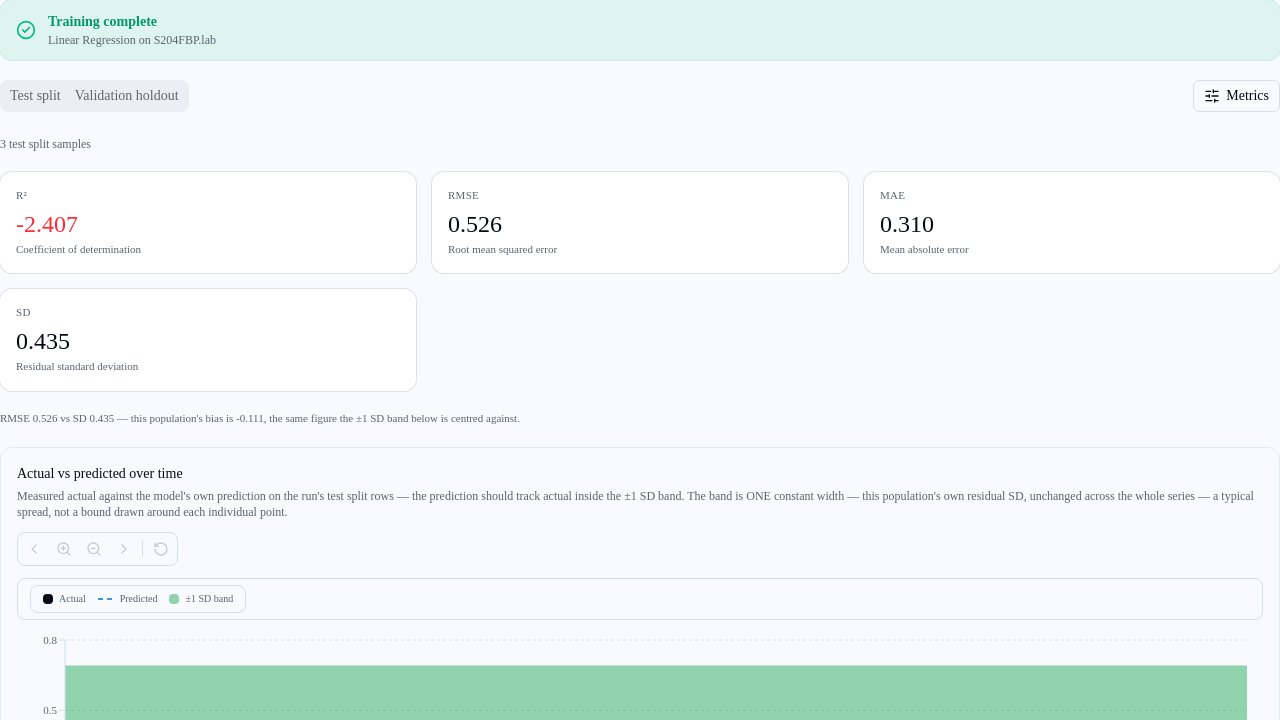
Test: Phase5Evaluation — tabs for every run (MODEL-FLOW-030) › the holdout tab › never scored: says so and offers Score against holdout
What coordinates should you click on to do the following:
click the tab "Validation holdout"
I would click on:
 (127, 96)
Its box is top-left (68, 83), bottom-right (186, 109).
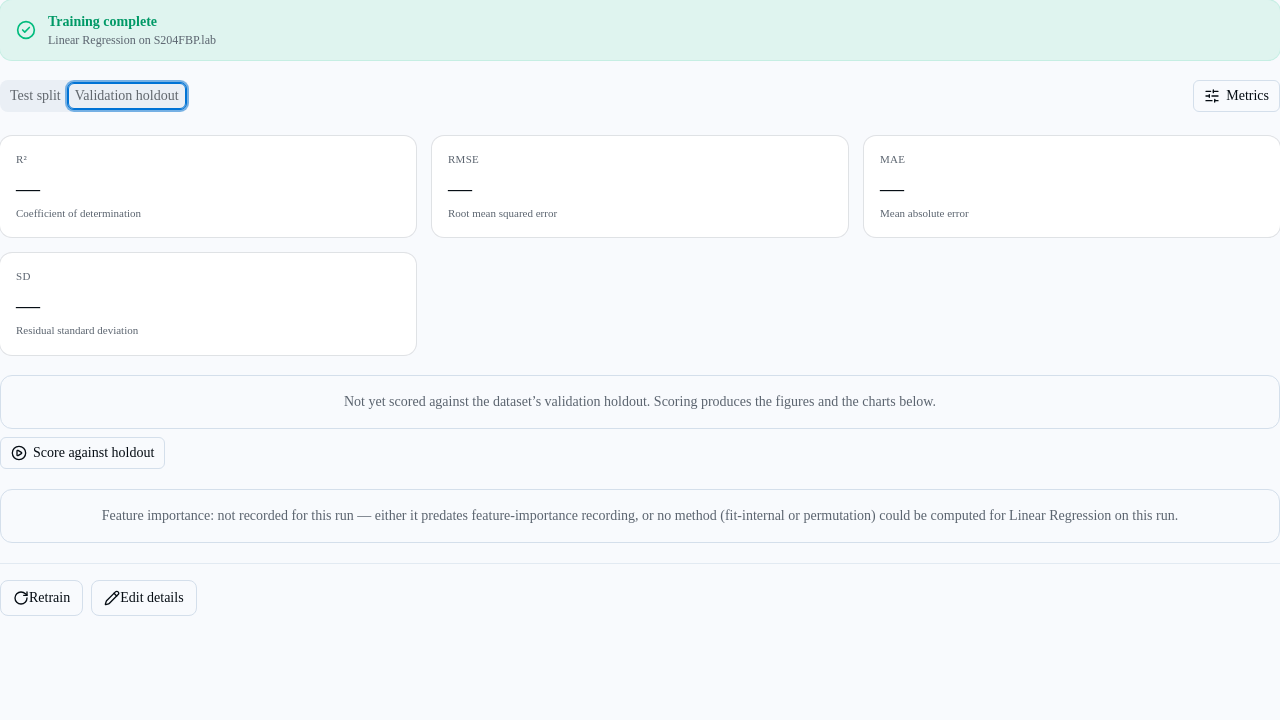
Check: the text "Not yet scored" is shown, box top-left (344, 394), bottom-right (936, 409)
Check: the button "Score against holdout" is enabled, box top-left (0, 437), bottom-right (165, 469)
